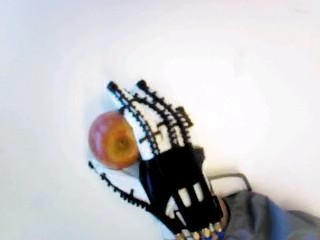apple: (88, 110, 142, 170)
hand: (86, 80, 222, 238)
